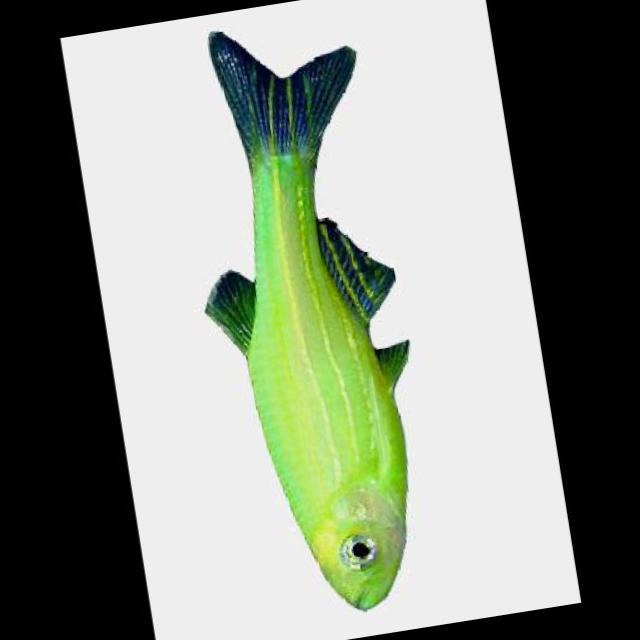ZebraFish: (156, 6, 450, 626)
